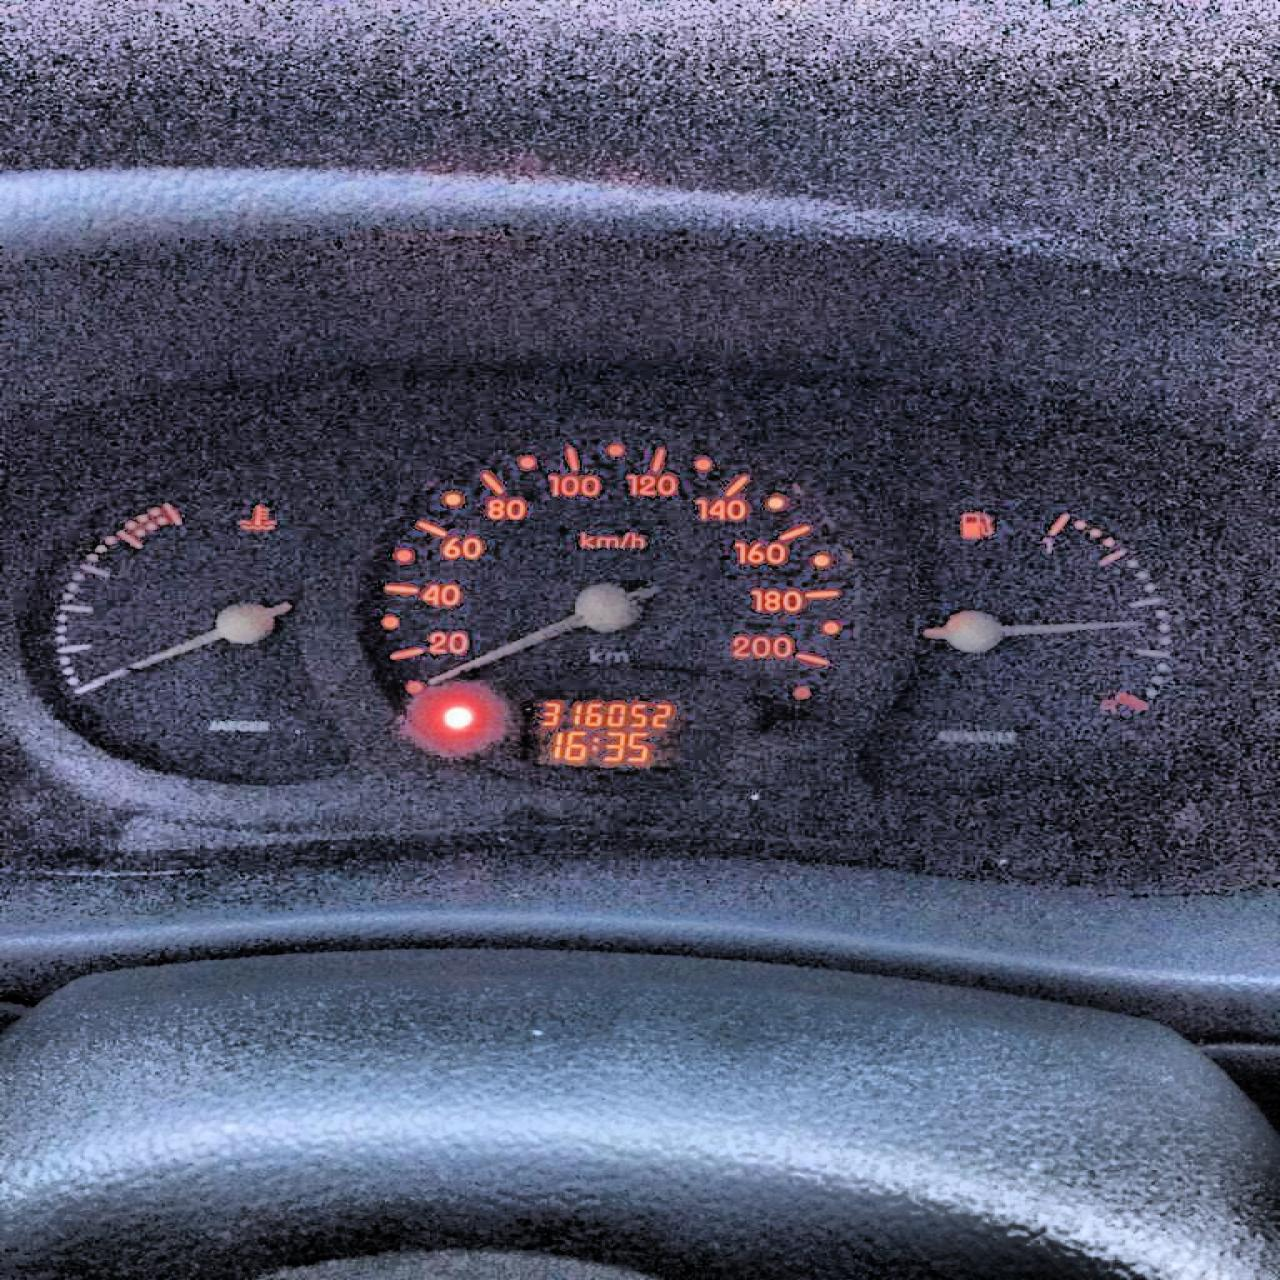0: (605, 702, 625, 727)
1: (551, 731, 561, 758), (572, 703, 581, 726)
2: (651, 702, 670, 727)
3: (600, 730, 625, 761), (540, 701, 560, 726)
5: (625, 731, 651, 761), (628, 702, 647, 727)
6: (564, 730, 585, 760), (584, 703, 601, 726)
X: (590, 736, 598, 750)
odometer: (520, 690, 687, 771)
